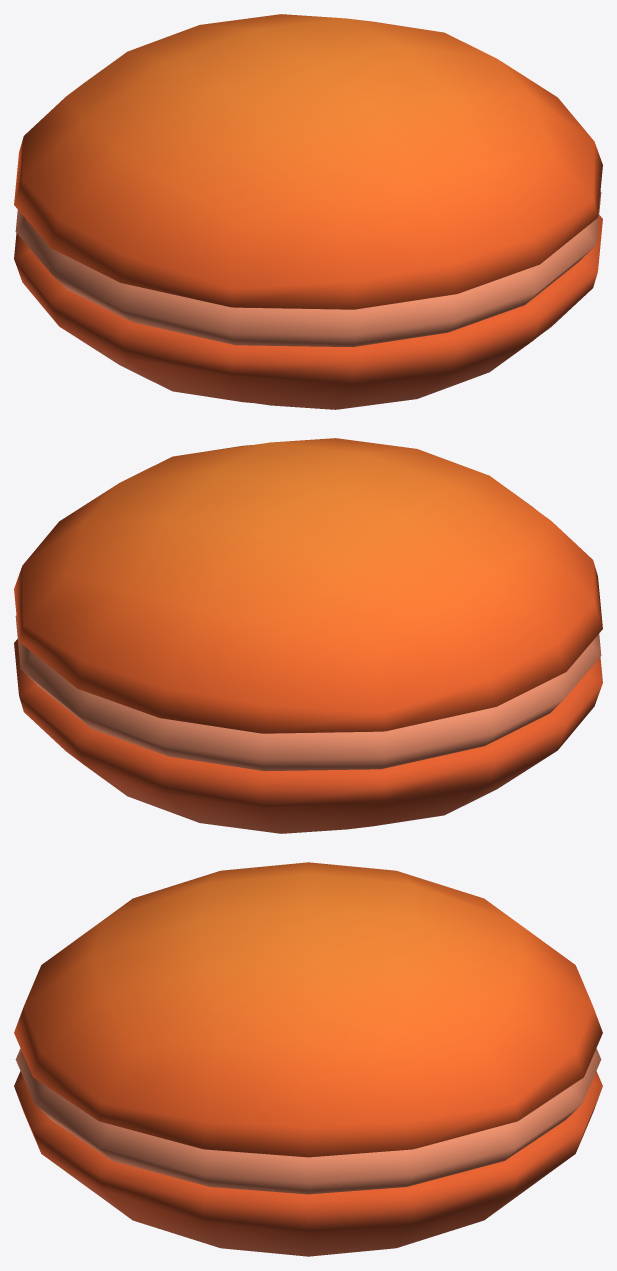
File: cookie_012.fbx
3 views of the same model, one above another, from view 1: azimuth 30°, elevation 25°; view 2: azimuth 150°, elevation 25°; view 3: azimuth 270°, elevation 25° (orthographic).
Parts seen in each view (by area): view 1: cookie_012; view 2: cookie_012; view 3: cookie_012.
Part boxes in pixels (<box>): cookie_012: <box>14,14,602,409</box>; cookie_012: <box>14,438,602,833</box>; cookie_012: <box>14,862,602,1256</box>.
Bounding box in the file's own units: 5.37 × 5.37 × 3.02.
